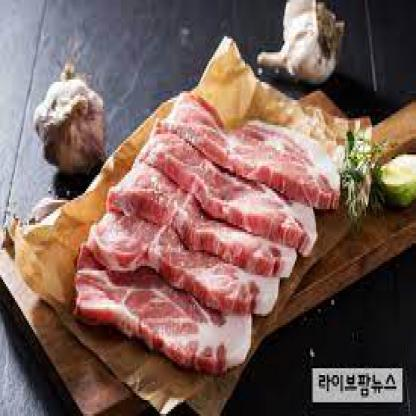pork: (71, 236, 263, 380), (116, 161, 314, 280), (166, 86, 346, 214), (97, 205, 277, 325)
